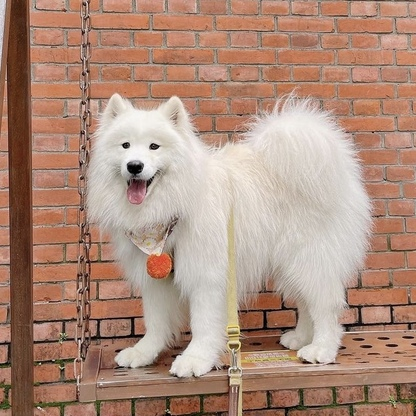samoyed: (82, 87, 376, 381)
